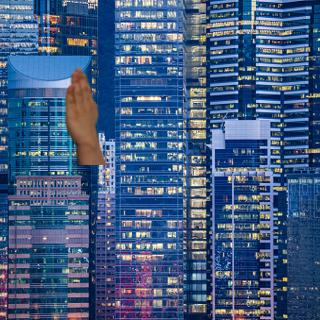RIGHT: (61, 64, 103, 150)
